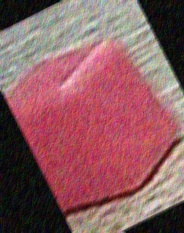red_cube: (8, 40, 182, 199)
